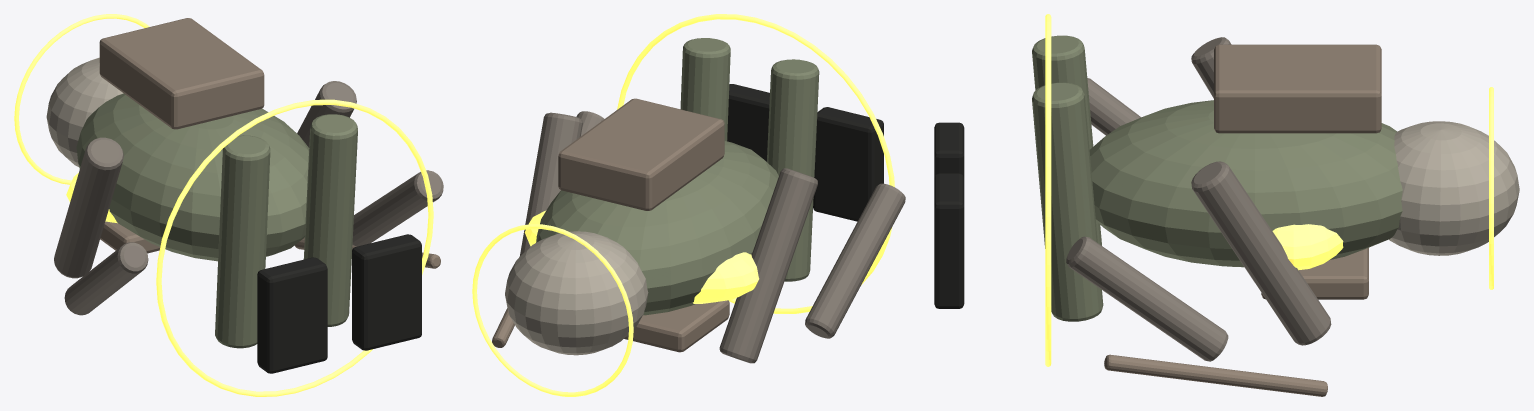
The model's file is dz_boss_military_commander.glb.
The picture shows the model from 3 angles, left to right: view 1: azimuth 30°, elevation 25°; view 2: azimuth 150°, elevation 25°; view 3: azimuth 270°, elevation 25°; orthographic projection. The views are drawn at different scales.
Visible parts, largest first — view 1: dz_torso_boss_military_commander, dz_variant_radio_pack_military_commander, dz_limb_leg_l_military_commander, dz_limb_leg_r_military_commander, dz_limb_foot_l_military_commander, dz_limb_foot_r_military_commander, dz_limb_arm_l_military_commander, dz_boss_attack_cue_military_commander, dz_head_boss_military_commander, dz_limb_forearm_r_military_commander, dz_limb_forearm_l_military_commander, dz_boss_danger_command_signal_military_commander (+2 smaller); view 2: dz_torso_boss_military_commander, dz_head_boss_military_commander, dz_variant_radio_pack_military_commander, dz_limb_arm_l_military_commander, dz_limb_foot_l_military_commander, dz_limb_leg_l_military_commander, dz_limb_forearm_l_military_commander, dz_limb_leg_r_military_commander, dz_variant_armor_chest_military_commander, dz_limb_arm_r_military_commander, dz_boss_attack_cue_military_commander, dz_boss_danger_command_signal_military_commander (+3 smaller); view 3: dz_torso_boss_military_commander, dz_variant_radio_pack_military_commander, dz_head_boss_military_commander, dz_limb_leg_r_military_commander, dz_limb_arm_r_military_commander, dz_limb_forearm_r_military_commander, dz_limb_foot_r_military_commander, dz_weapon_signal_rifle_military_commander, dz_limb_leg_l_military_commander, dz_variant_armor_chest_military_commander, dz_boss_attack_cue_military_commander, dz_chest_boss_military_commander (+4 smaller).
Boxes of the visible parts, x1,y1,x2,y2 form: dz_torso_boss_military_commander: (76, 93, 309, 261); dz_variant_radio_pack_military_commander: (99, 18, 264, 129); dz_limb_leg_l_military_commander: (215, 135, 270, 348); dz_limb_leg_r_military_commander: (303, 114, 357, 326); dz_limb_foot_l_military_commander: (257, 257, 327, 373); dz_limb_foot_r_military_commander: (352, 234, 421, 350); dz_limb_arm_l_military_commander: (54, 137, 123, 278); dz_boss_attack_cue_military_commander: (156, 99, 433, 396); dz_head_boss_military_commander: (46, 57, 123, 166); dz_limb_forearm_r_military_commander: (352, 170, 443, 246); dz_limb_forearm_l_military_commander: (64, 242, 148, 315); dz_boss_danger_command_signal_military_commander: (14, 14, 149, 184); dz_torso_boss_military_commander: (536, 141, 778, 315); dz_head_boss_military_commander: (505, 231, 648, 355); dz_variant_radio_pack_military_commander: (558, 98, 724, 210); dz_limb_arm_l_military_commander: (719, 168, 817, 363); dz_limb_foot_l_military_commander: (813, 107, 883, 221); dz_limb_leg_l_military_commander: (767, 59, 819, 281); dz_limb_forearm_l_military_commander: (805, 183, 905, 338); dz_limb_leg_r_military_commander: (680, 38, 730, 140); dz_variant_armor_chest_military_commander: (624, 300, 729, 352); dz_limb_arm_r_military_commander: (519, 112, 582, 256); dz_boss_attack_cue_military_commander: (617, 14, 894, 313); dz_boss_danger_command_signal_military_commander: (472, 224, 633, 396); dz_torso_boss_military_commander: (1089, 100, 1402, 267); dz_variant_radio_pack_military_commander: (1214, 44, 1381, 133); dz_head_boss_military_commander: (1389, 121, 1519, 255); dz_limb_leg_r_military_commander: (1032, 82, 1103, 321); dz_limb_arm_r_military_commander: (1191, 161, 1331, 345); dz_limb_forearm_r_military_commander: (1066, 236, 1228, 361); dz_limb_foot_r_military_commander: (934, 173, 964, 308); dz_weapon_signal_rifle_military_commander: (1104, 354, 1327, 396); dz_limb_leg_l_military_commander: (1032, 35, 1101, 245); dz_variant_armor_chest_military_commander: (1261, 247, 1368, 299); dz_boss_attack_cue_military_commander: (1045, 14, 1051, 366); dz_chest_boss_military_commander: (1272, 224, 1343, 270).
Size of the model in its own units: 1.99 by 1.64 by 2.72.
